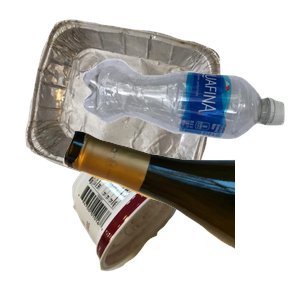glass: (60, 128, 300, 300)
metal: (23, 17, 236, 197)
plastic: (80, 56, 300, 187)
trash: (70, 149, 254, 300)
